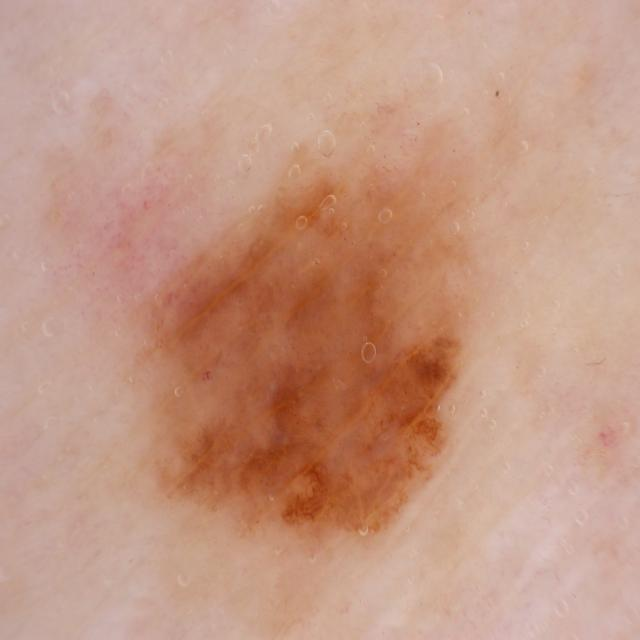Benign: (146, 172, 469, 542)
